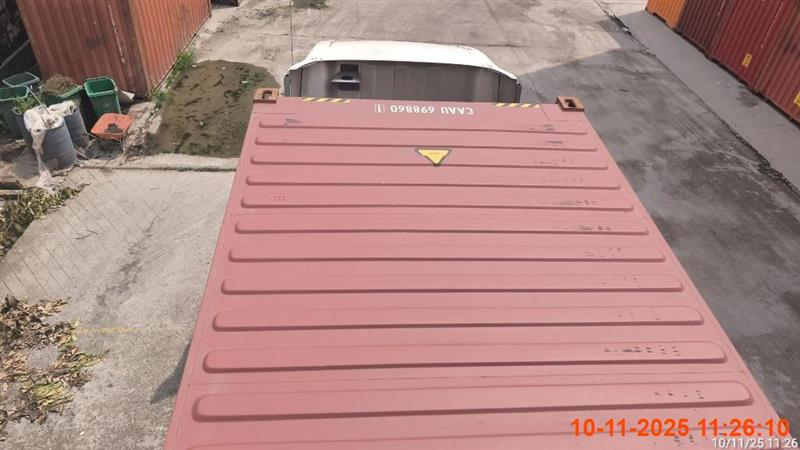broken: (163, 38, 796, 444)
